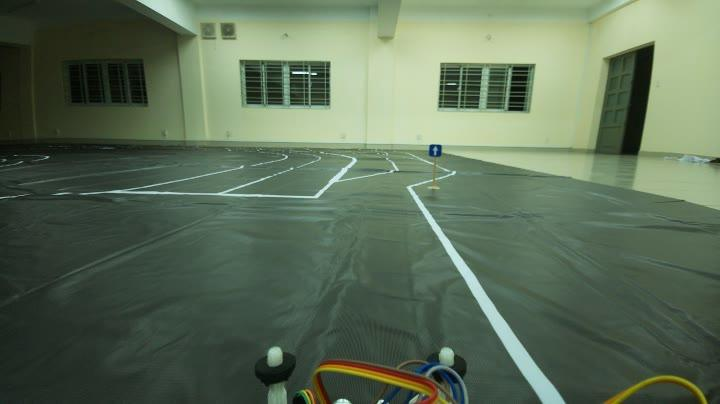onewayroad: (424, 138, 446, 162)
